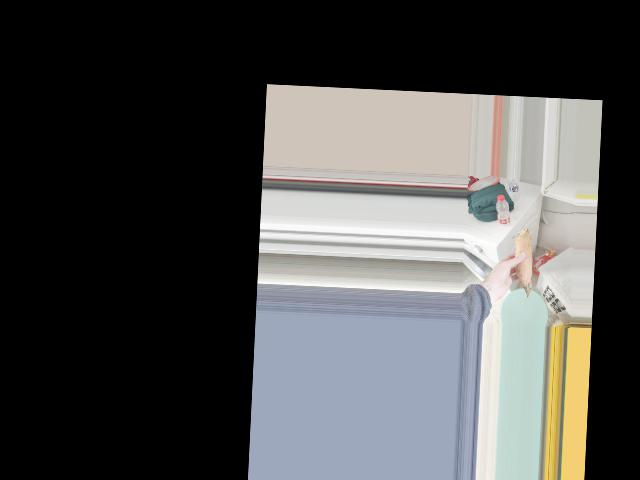sweet_potato: (508, 234, 533, 296)
